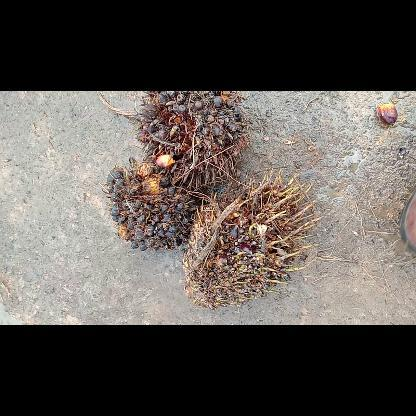TBS abnormal: (182, 170, 322, 308), (135, 91, 245, 185), (106, 154, 200, 250)
